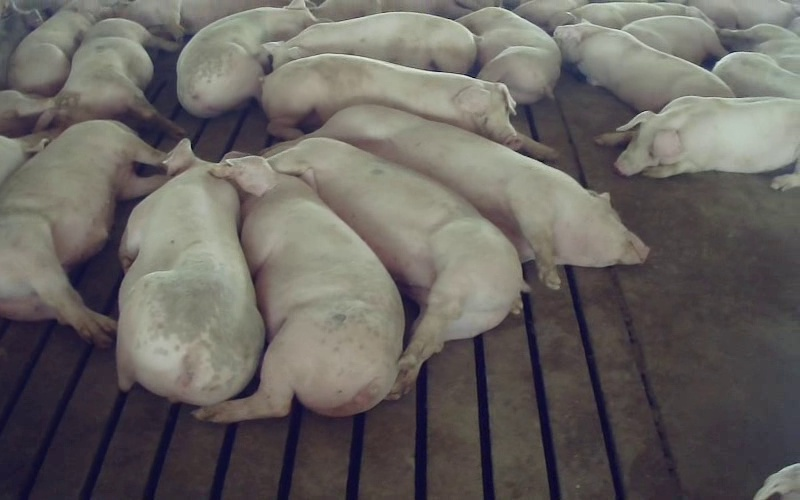pig: (269, 140, 524, 398), (313, 105, 648, 288), (195, 157, 403, 422), (117, 139, 263, 405), (0, 120, 167, 346), (261, 54, 555, 159), (595, 96, 799, 189), (36, 18, 182, 136), (554, 22, 733, 111), (264, 12, 476, 73), (457, 7, 560, 103), (622, 7, 726, 64), (712, 52, 799, 98), (718, 24, 799, 73), (551, 2, 686, 28)
